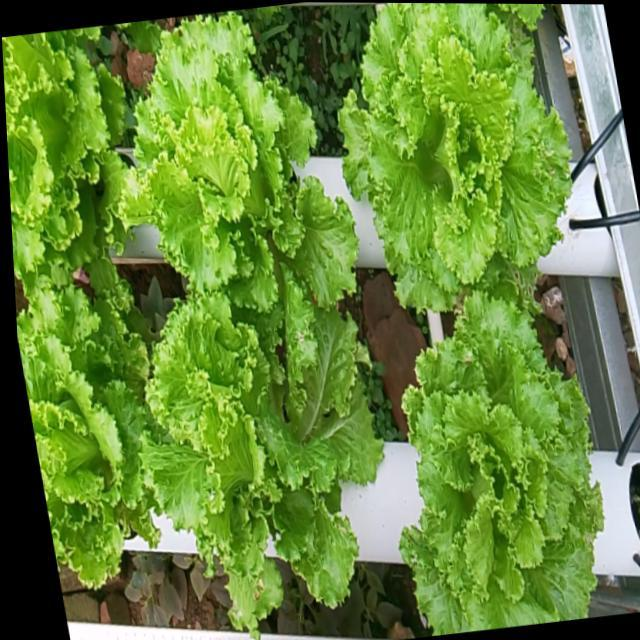Mature: (144, 295, 405, 634), (339, 3, 571, 311), (120, 10, 357, 310), (399, 285, 602, 635), (16, 282, 158, 584), (2, 29, 125, 305)
